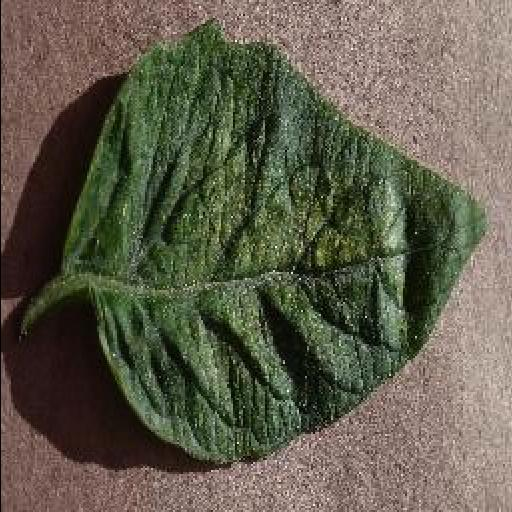disease_tomato: (60, 22, 490, 466)
